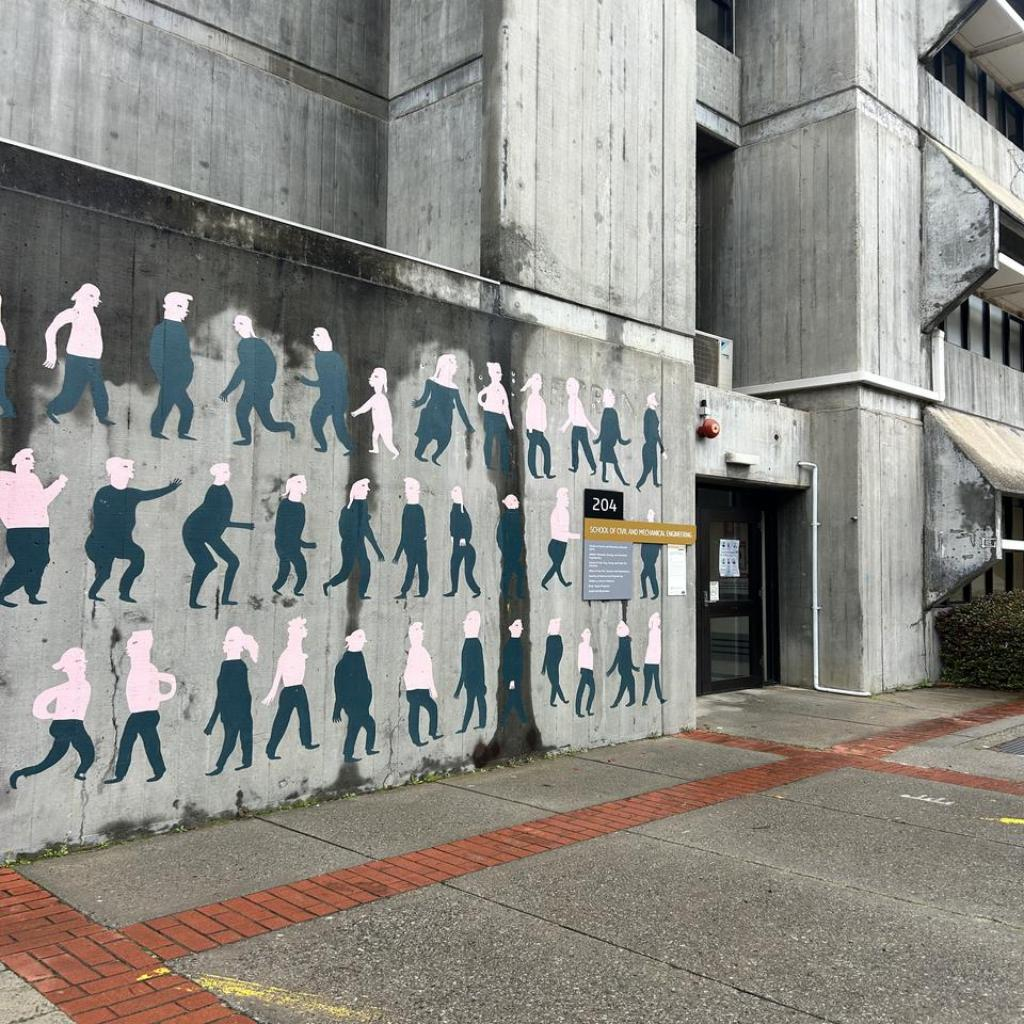BuildingCodes: (591, 496, 619, 514)
